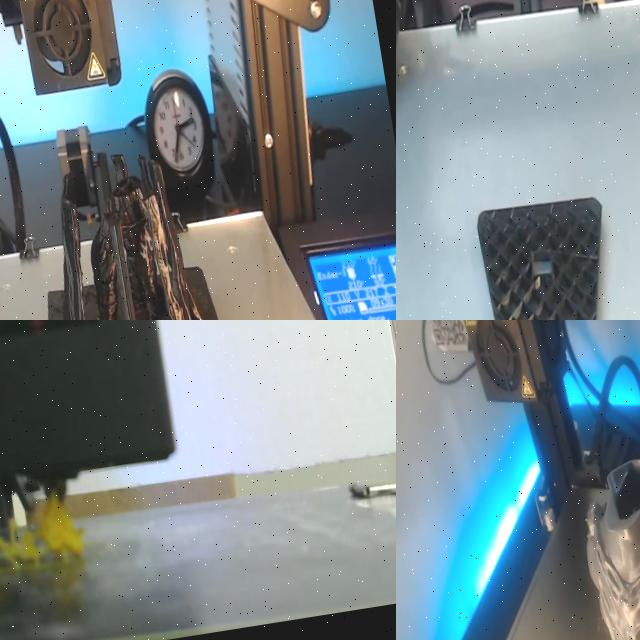spaghetti: (0, 481, 83, 569)
